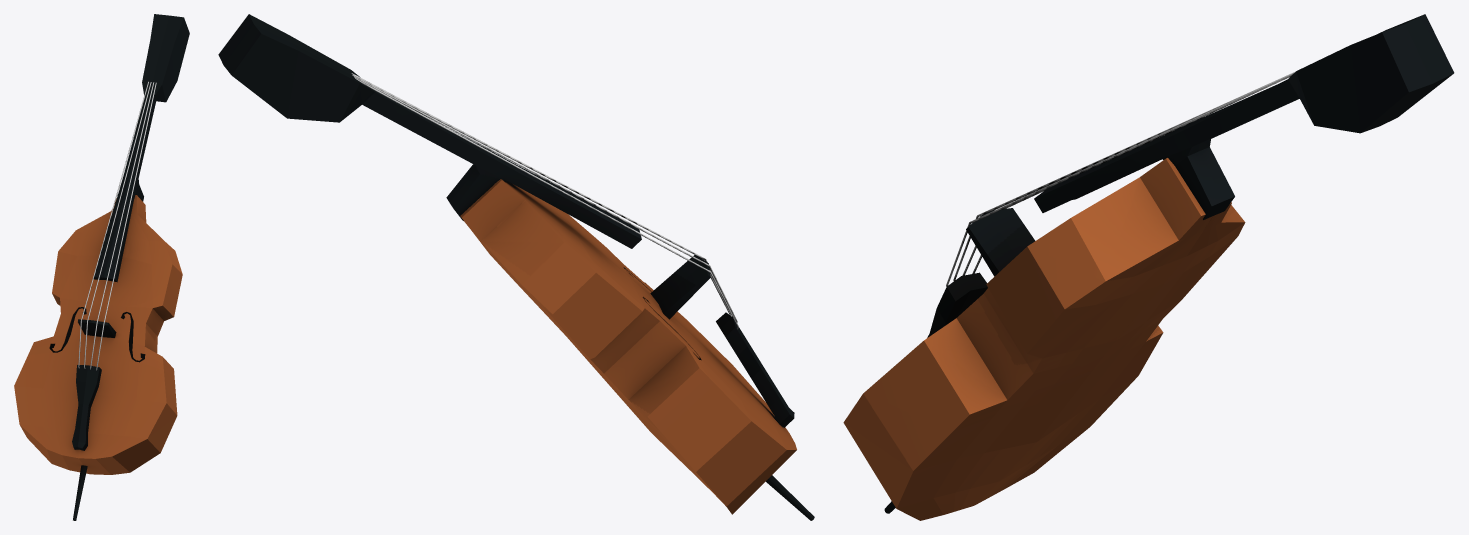
File: cello.glb
The picture shows the model from 3 angles, left to right: view 1: azimuth 30°, elevation 25°; view 2: azimuth 150°, elevation 25°; view 3: azimuth 270°, elevation 25°; orthographic projection. The views are drawn at different scales.
Parts seen in each view (by area): view 1: Cube_Hollow; view 2: Cube_Hollow; view 3: Cube_Hollow.
Part boxes in pixels (box(x1,y1,x2,y2)): Cube_Hollow: box(14, 14, 189, 520); Cube_Hollow: box(218, 14, 814, 520); Cube_Hollow: box(843, 14, 1454, 520).
Bounding box in the file's own units: 1.97 × 2.52 × 1.97.
1 material, 1 textured.
